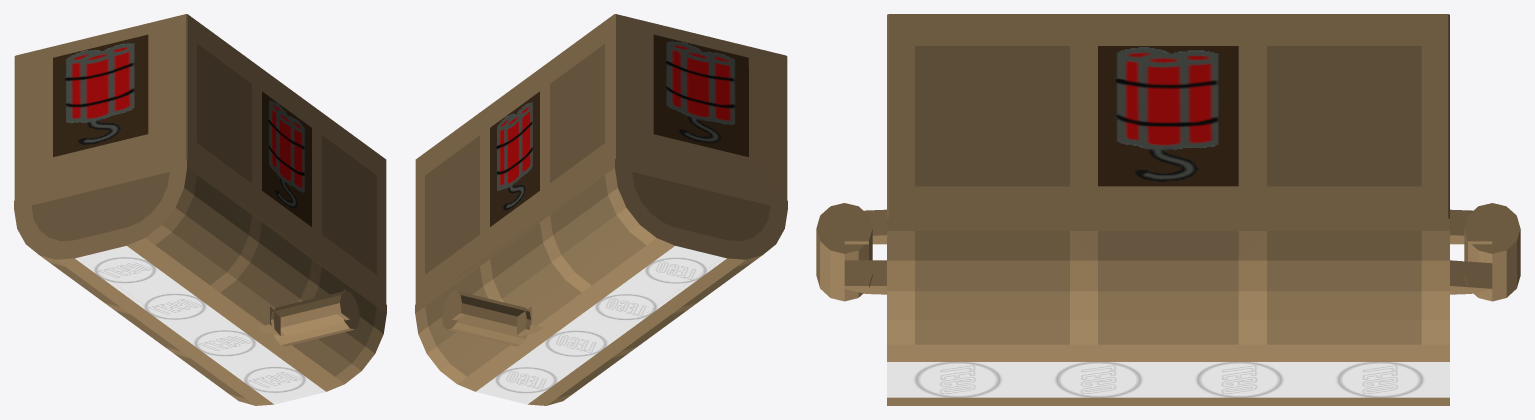
3 views of the same model, side by side, from view 1: azimuth 30°, elevation 25°; view 2: azimuth 150°, elevation 25°; view 3: azimuth 270°, elevation 25° (orthographic). The views are drawn at different scales.
Visible parts, largest first — view 1: 004_L_473801_Textured; view 2: 004_L_473801_Textured; view 3: 004_L_473801_Textured.
Boxes of the visible parts, x1,y1,x2,y2 form: 004_L_473801_Textured: (14,14,386,405); 004_L_473801_Textured: (415,14,787,405); 004_L_473801_Textured: (816,14,1520,405).
Size of the model in its own units: 1.6 by 1.92 by 4.
Materials: 5 (3 with a texture image).
